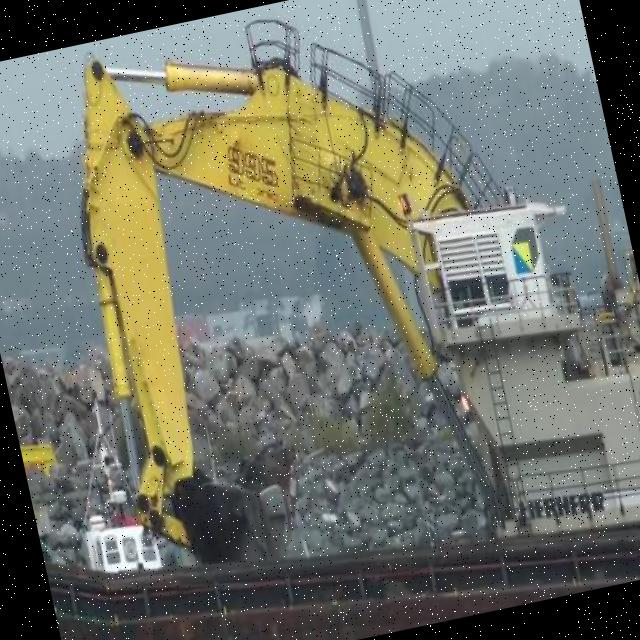Excavator: (36, 0, 640, 609)
